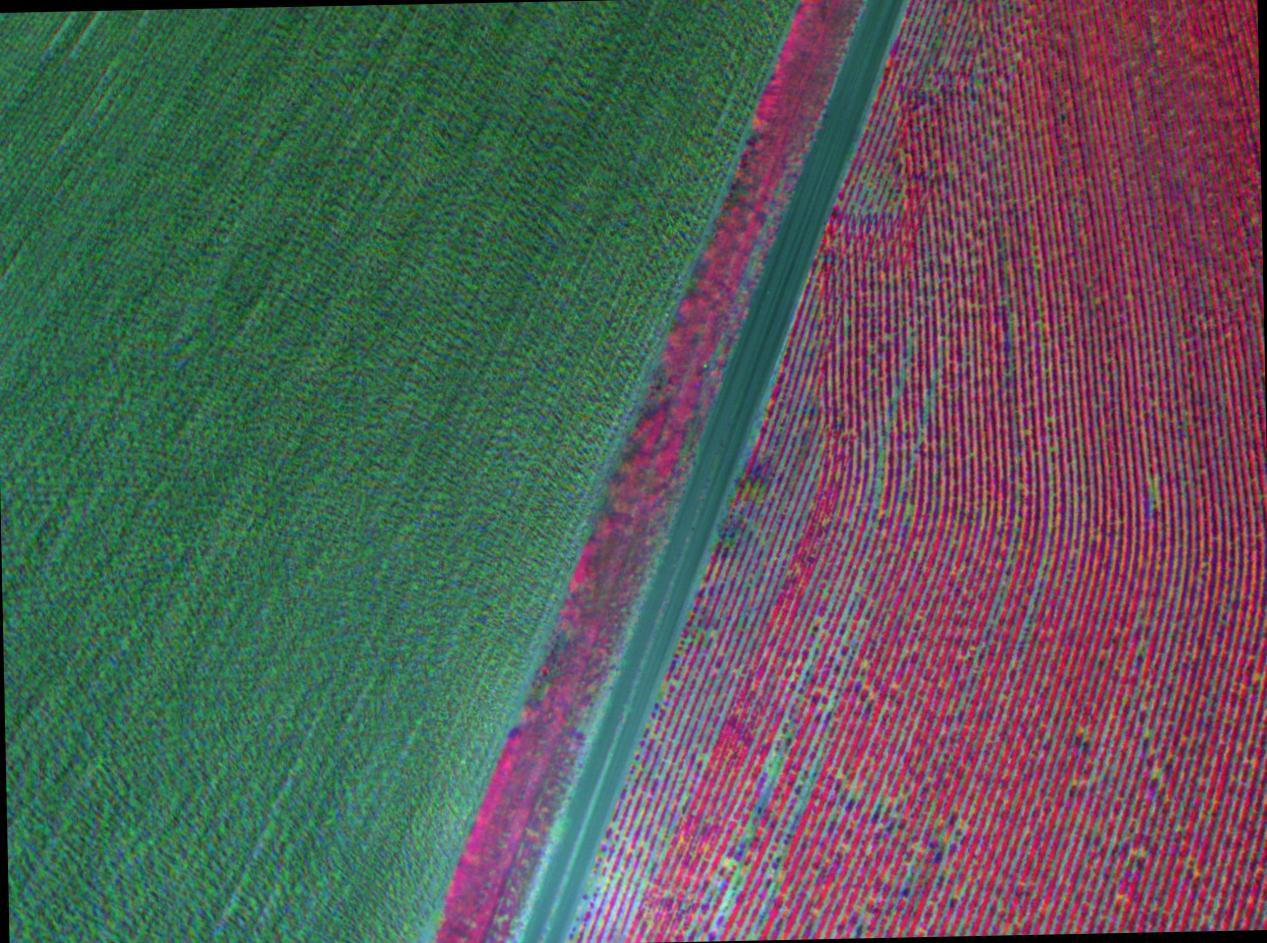dc: (1152, 491, 1157, 497), (1157, 772, 1163, 777), (772, 769, 777, 774), (723, 901, 728, 906), (907, 507, 911, 511), (878, 207, 882, 210), (1050, 447, 1053, 451), (729, 861, 733, 864), (1036, 265, 1039, 268)
